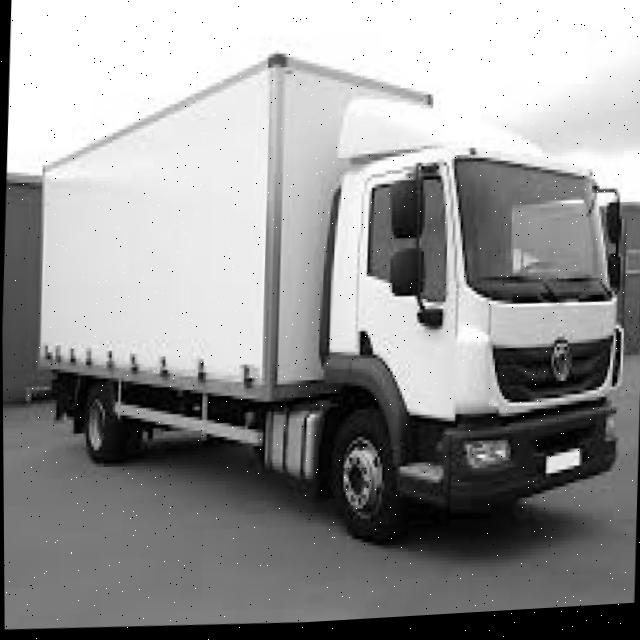truck: (285, 66, 640, 569)
